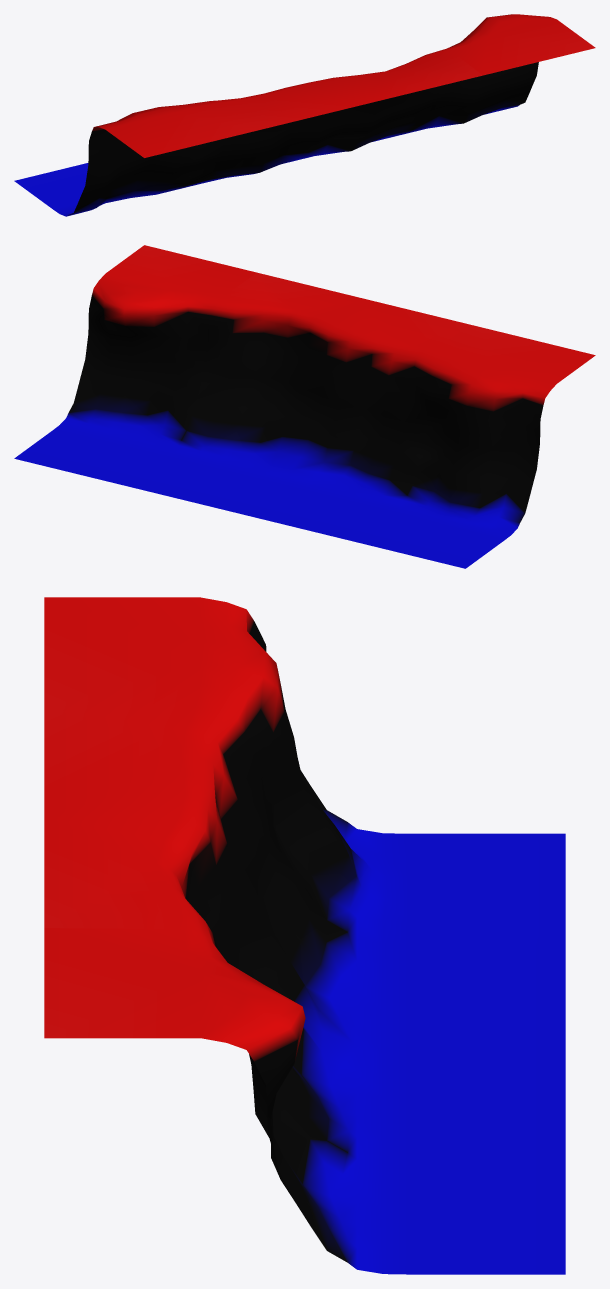
File: RiveCliff02A Background.fbx
The picture shows the model from 3 angles, top to bottom: view 1: azimuth 30°, elevation 25°; view 2: azimuth 150°, elevation 25°; view 3: azimuth 270°, elevation 25°; orthographic projection. The views are drawn at different scales.
Parts seen in each view (by area): view 1: RiveCliff02A Background; view 2: RiveCliff02A Background; view 3: RiveCliff02A Background.
Part boxes in pixels (<box>): RiveCliff02A Background: <box>14,14,595,216</box>; RiveCliff02A Background: <box>14,245,595,568</box>; RiveCliff02A Background: <box>44,597,565,1274</box>.
Size of the model in its own units: 4 by 1 by 2.
